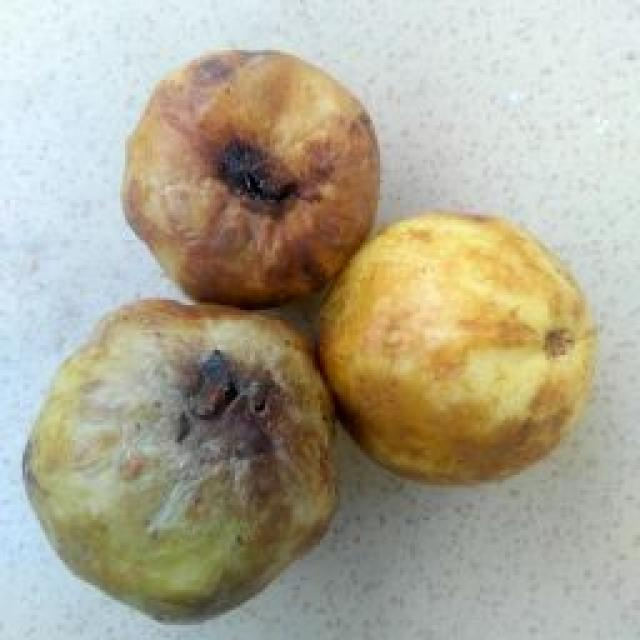Bad_Guava: (25, 300, 338, 619), (122, 51, 379, 307)
